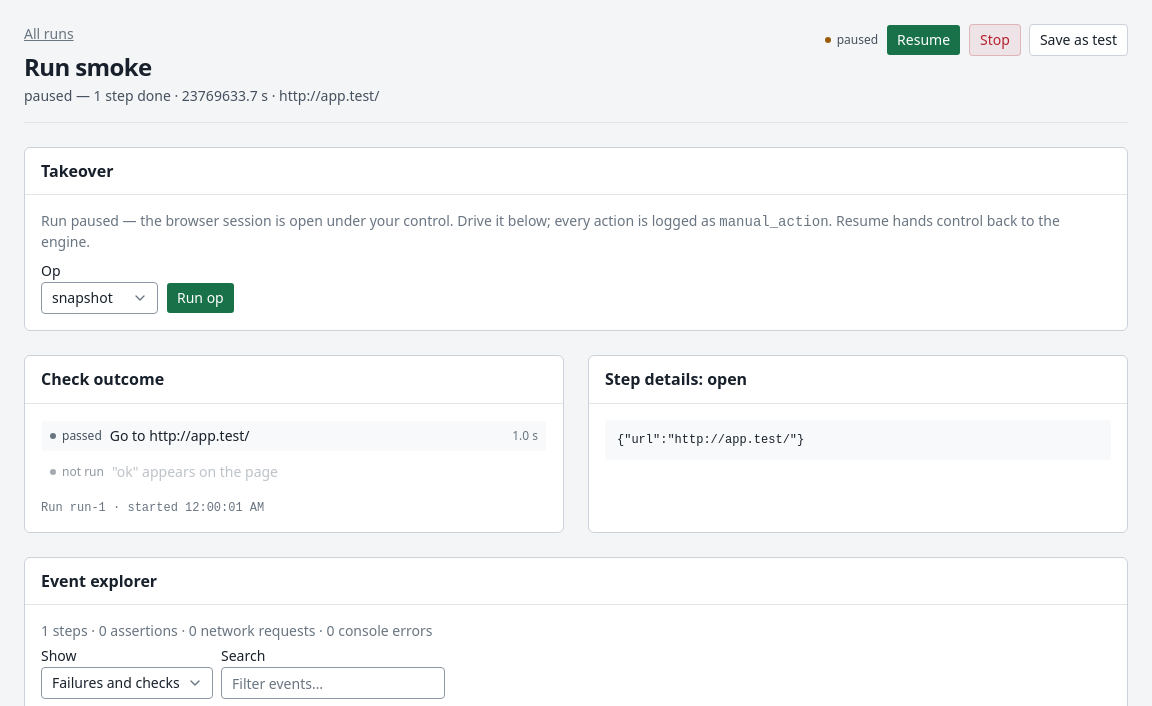
Scenario: drives manual ops on a paused run
Check: the element with test id "takeover" is shown, box [41,211,1111,314]
Check: the dropdown with test id "manual-op" shows "snapshot", box [41,282,158,314]
Click the button with test id "manual-go": (200,298) [166,282,235,314]
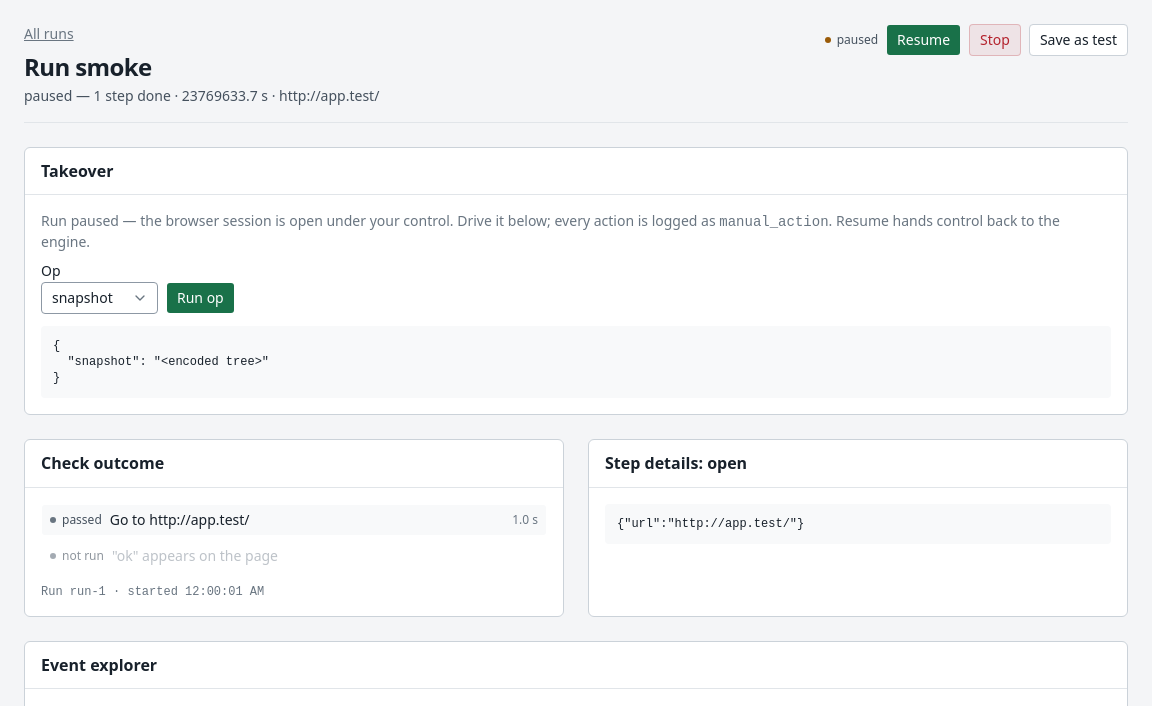
Check: the text with test id "manual-result" shows "encoded tree", box [53,339,269,385]
